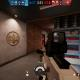Friend_label: (46, 32, 50, 34), (23, 30, 25, 33), (66, 31, 69, 33)
